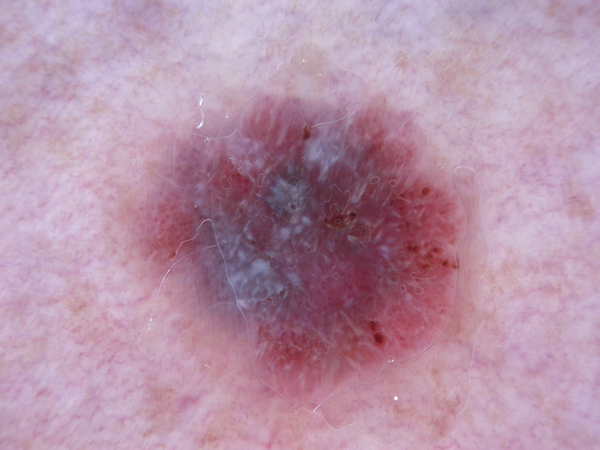Detected Lesion: (134, 89, 467, 391)
